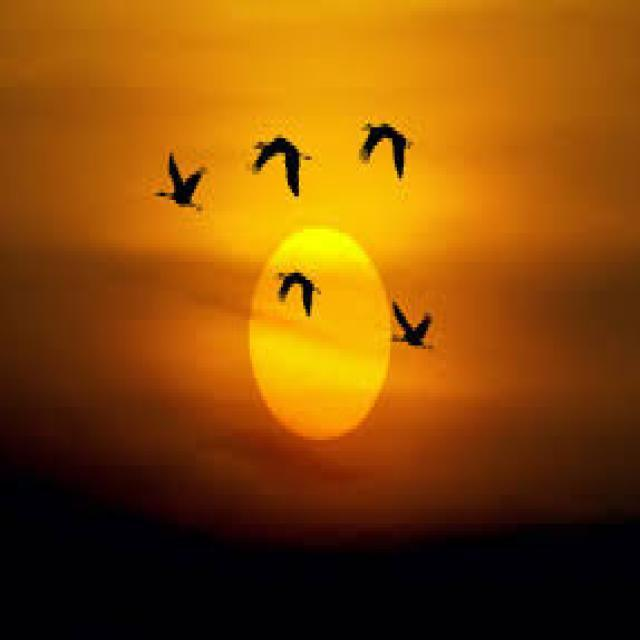bird: (240, 98, 336, 226), (139, 96, 213, 242), (333, 80, 427, 186), (238, 243, 334, 334), (382, 280, 454, 360)
